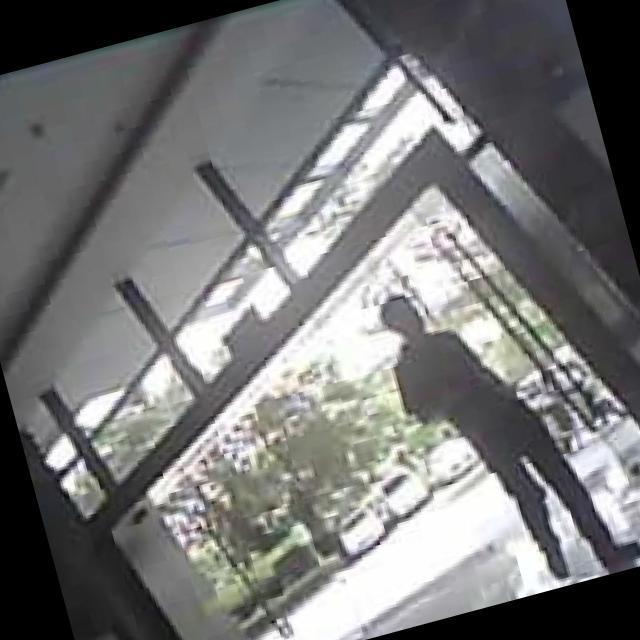person: (371, 244, 640, 614)
